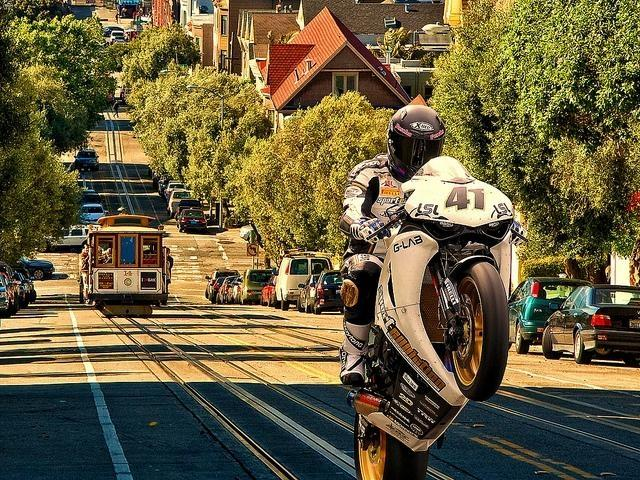car: (542, 282, 640, 368), (508, 277, 594, 354), (274, 253, 334, 311), (236, 267, 277, 304), (12, 255, 56, 280), (166, 188, 192, 218), (176, 208, 208, 232), (78, 203, 109, 225), (260, 274, 279, 308), (174, 198, 203, 218), (218, 277, 236, 303), (212, 277, 226, 304), (82, 190, 100, 202)
motorcycle: (347, 156, 530, 474)
